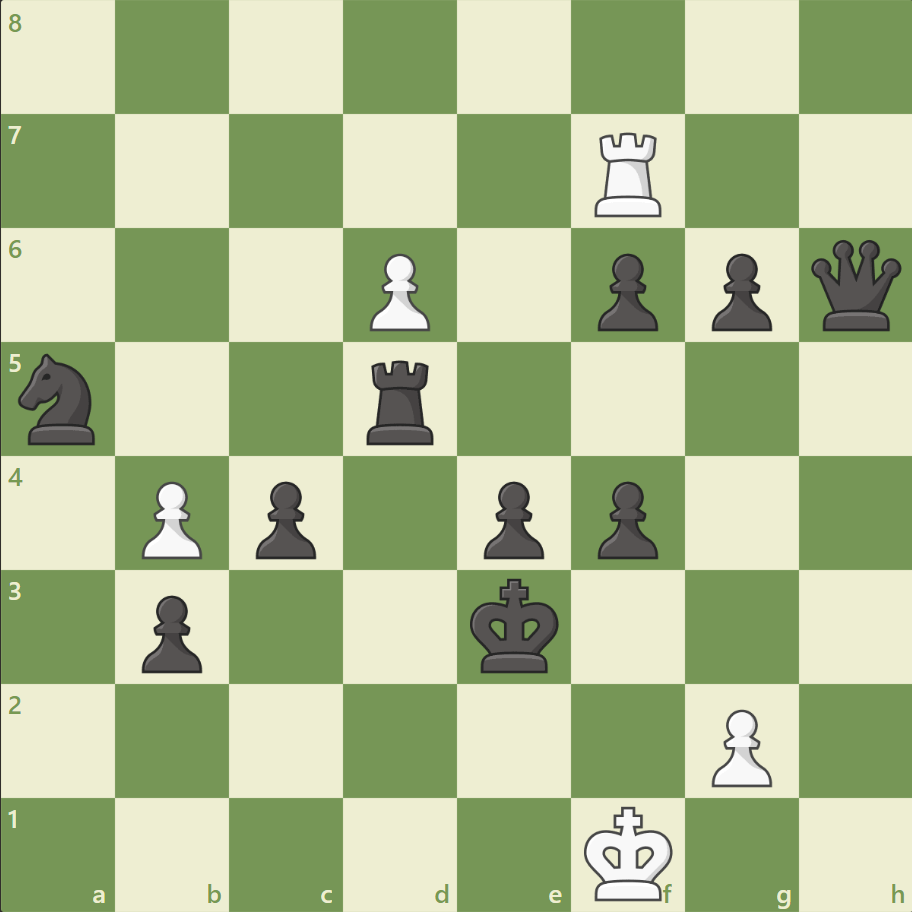K: (579, 798, 679, 906)
P: (133, 473, 208, 564), (701, 700, 776, 791), (361, 246, 435, 337)
R: (587, 125, 670, 222)
k: (465, 571, 565, 679)
n: (11, 348, 108, 450)
p: (701, 246, 776, 337), (247, 473, 322, 564), (474, 473, 549, 564), (133, 586, 208, 677), (588, 246, 662, 337), (588, 473, 662, 564)
q: (805, 236, 904, 335)
r: (360, 352, 442, 449)
